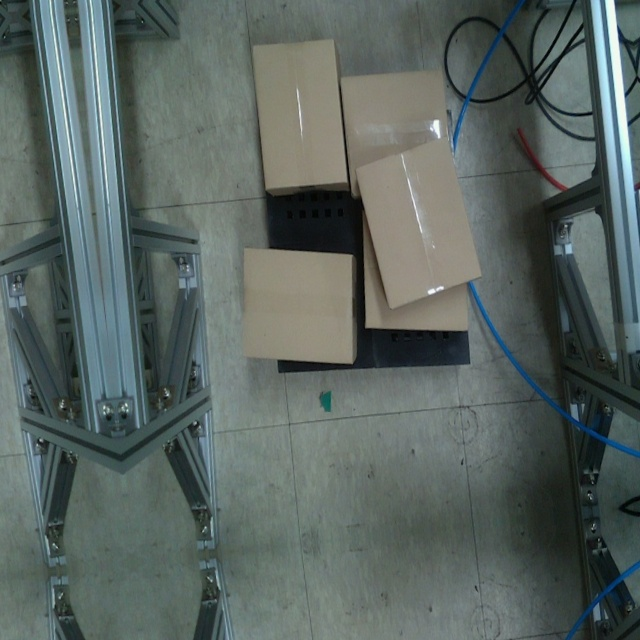box: (351, 133, 485, 312), (251, 36, 350, 192), (240, 245, 355, 369)
